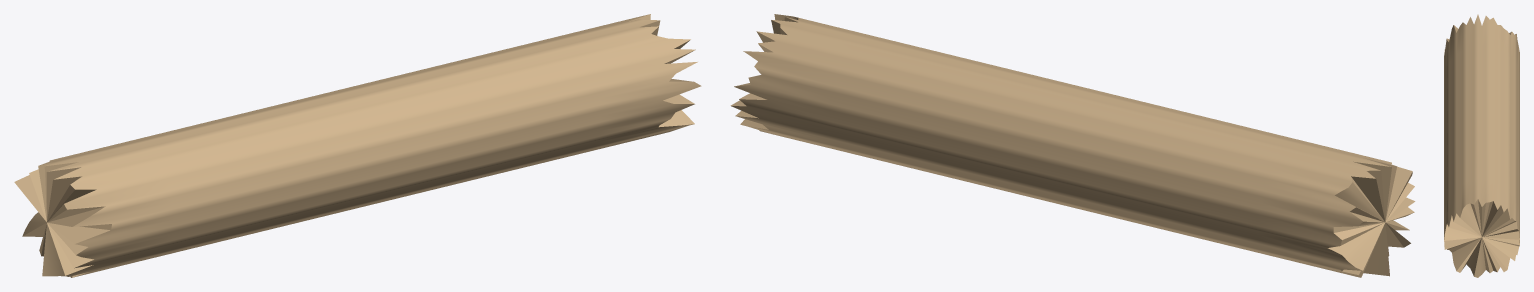
File: column_fallen.glb
The picture shows the model from 3 angles, left to right: view 1: azimuth 30°, elevation 25°; view 2: azimuth 150°, elevation 25°; view 3: azimuth 270°, elevation 25°; orthographic projection. The views are drawn at different scales.
Visible parts, largest first — view 1: column_fallen; view 2: column_fallen; view 3: column_fallen.
Boxes of the visible parts, left/top/right/bottom form: column_fallen: left=14, top=14, right=701, bottom=277; column_fallen: left=730, top=14, right=1415, bottom=277; column_fallen: left=1444, top=14, right=1519, bottom=277.
Size of the model in its own units: 6.69 by 1.08 by 1.08.
